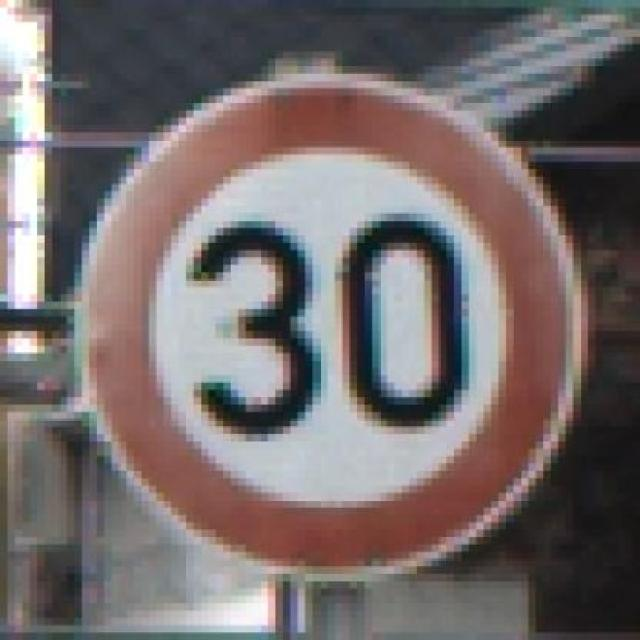Speed Limit 30 KMPh: (37, 52, 611, 603)
